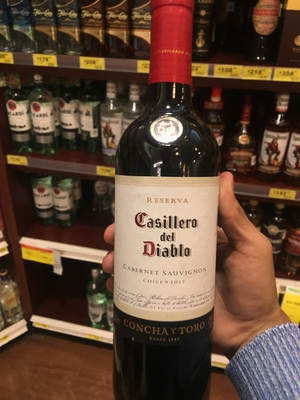casillero del diablo cabernet sauvignon: (105, 9, 237, 400)
